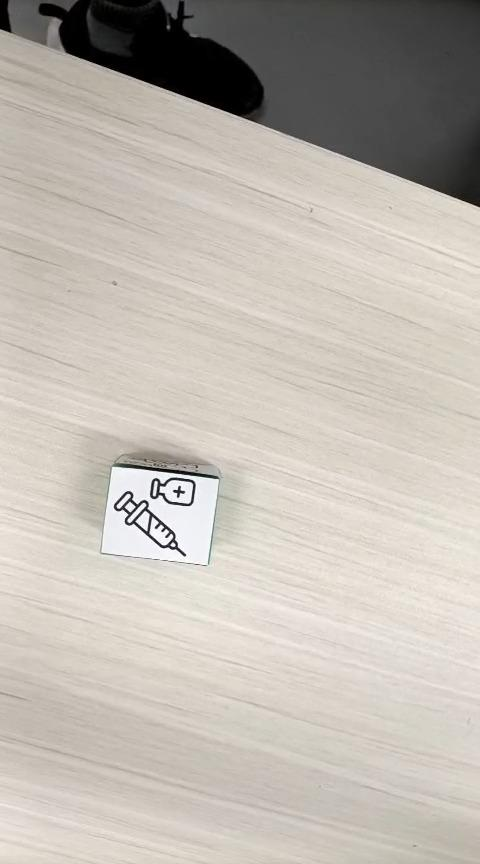antiseptic cream: (98, 451, 222, 567)
